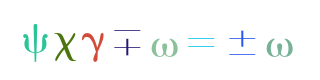5: (121, 0, 201, 80)
6: (151, 0, 231, 80)
7: (87, 0, 167, 80)
C: (25, 0, 105, 80)
G: (54, 0, 134, 80)
V: (108, 0, 188, 80), (202, 0, 282, 80)
X: (29, 0, 109, 80)
